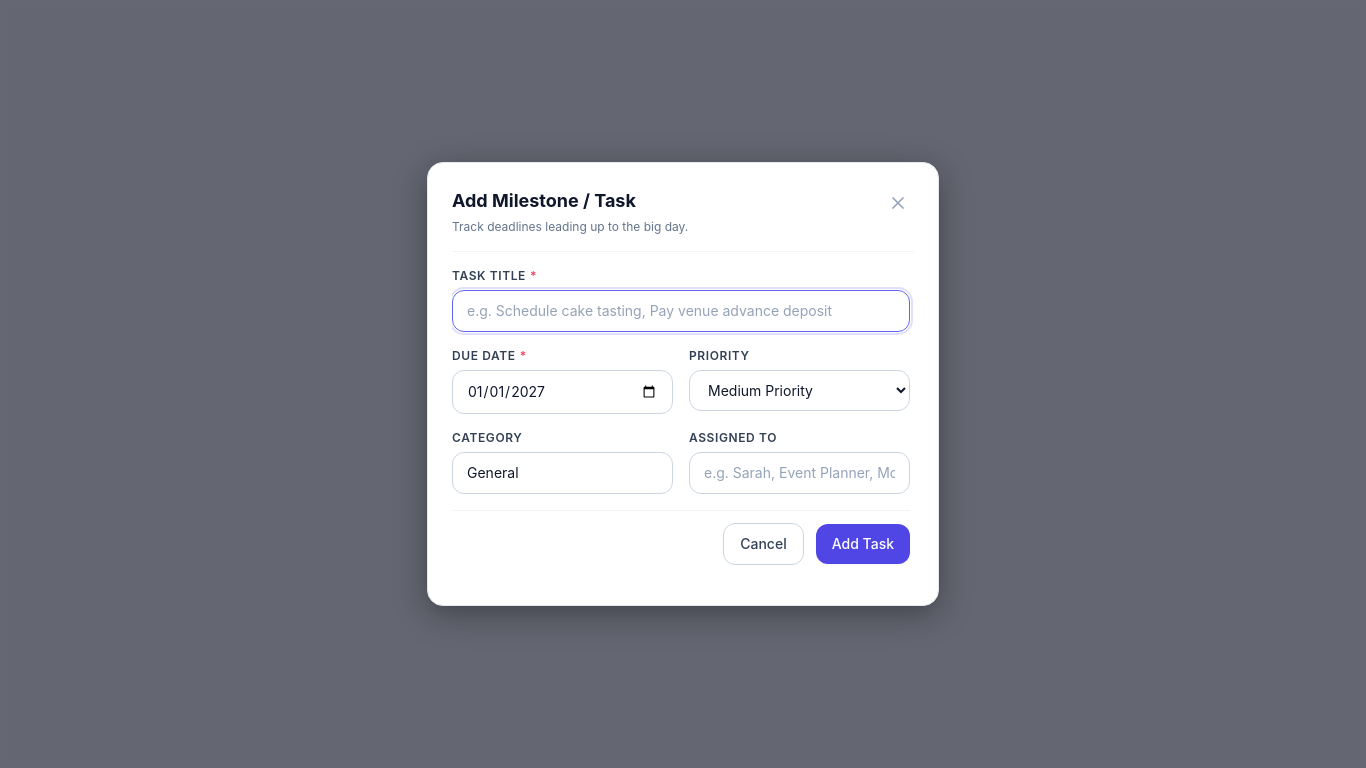
Test: AddTaskModal component › handles handleAdd rejection with Error and string
Type "Book Band" into the field labelled "Task Title*" at (681, 311), box [452, 290, 910, 332]
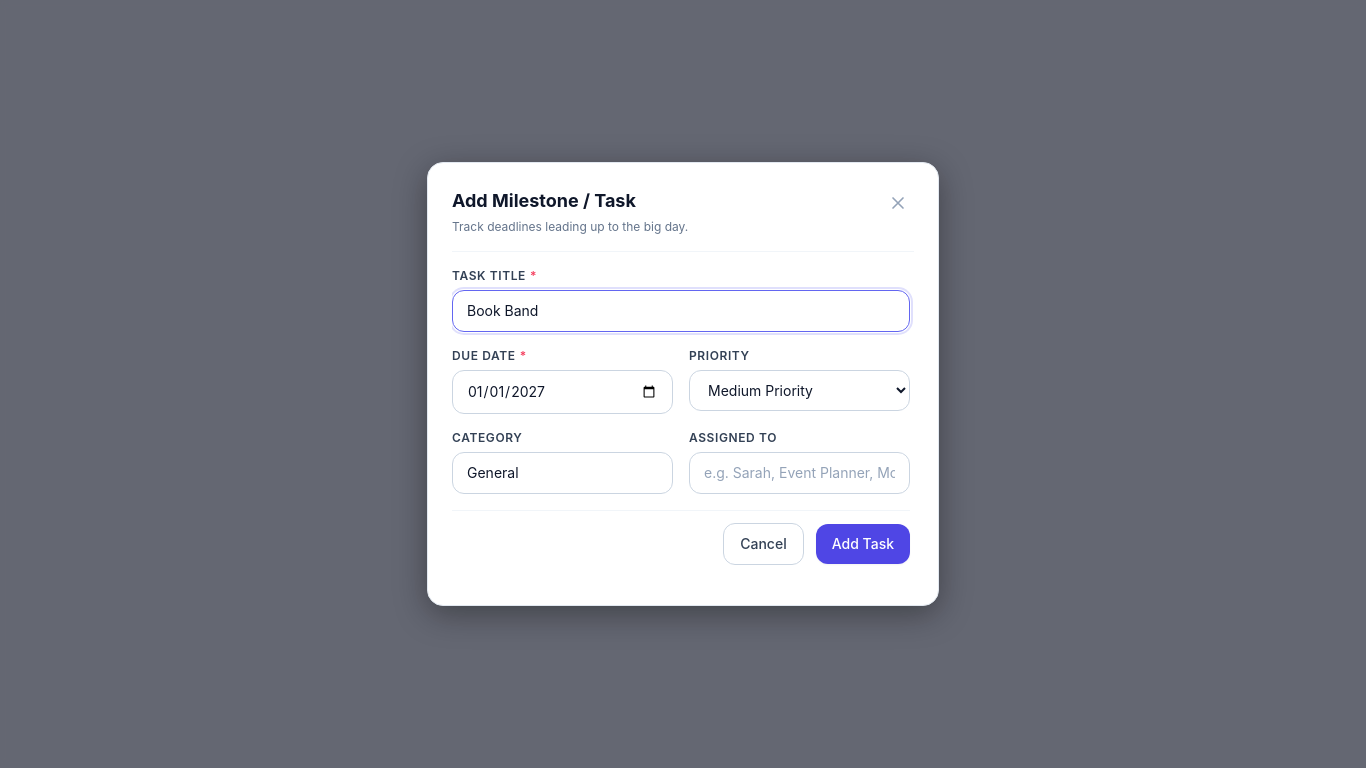
Click the button "Add Task" at (863, 544), box [816, 524, 910, 564]
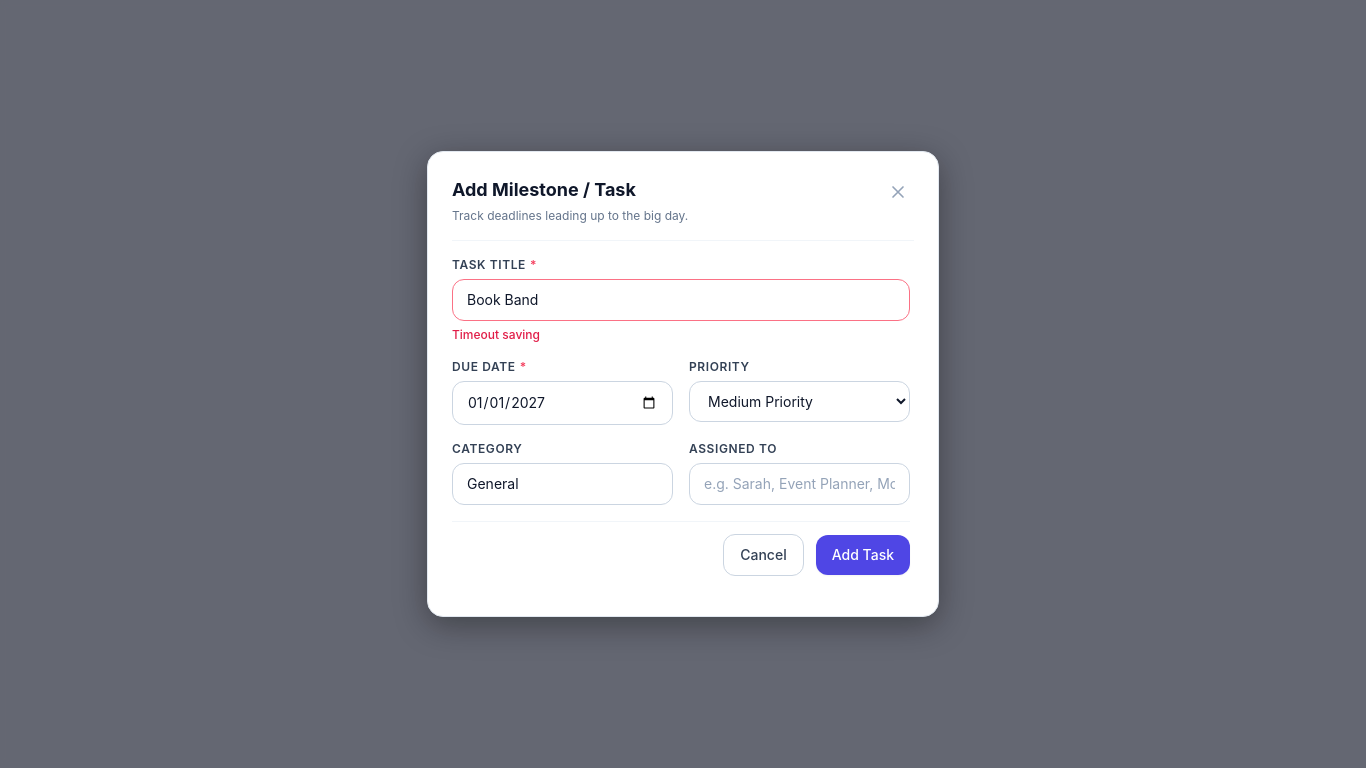
Check: the text "Timeout saving" is shown, box [452, 327, 540, 342]
Click the button "Add Task" at (863, 555), box [816, 535, 910, 575]
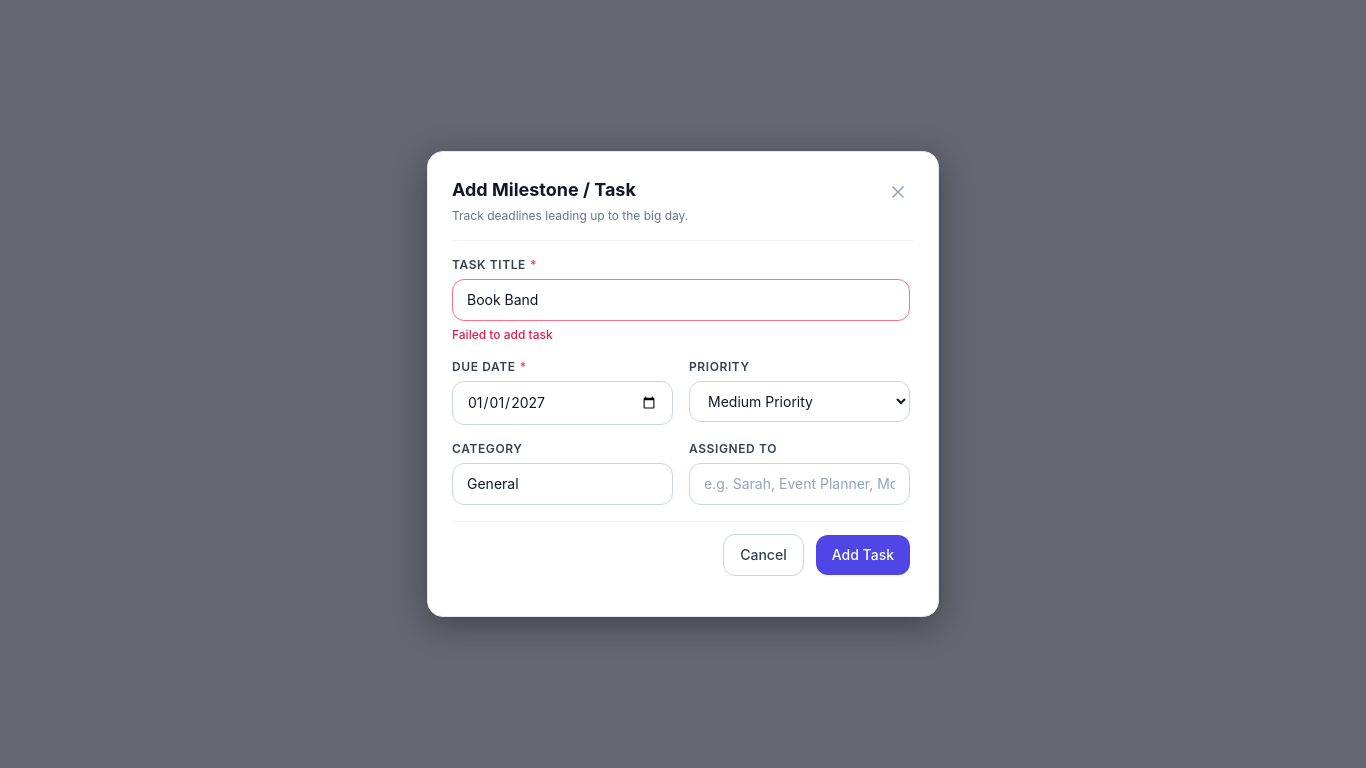
Check: the text "Failed to add task" is shown, box [452, 327, 553, 342]
